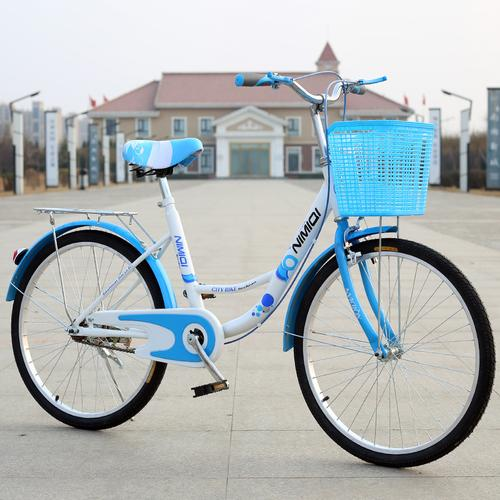单车: (1, 65, 500, 476)
